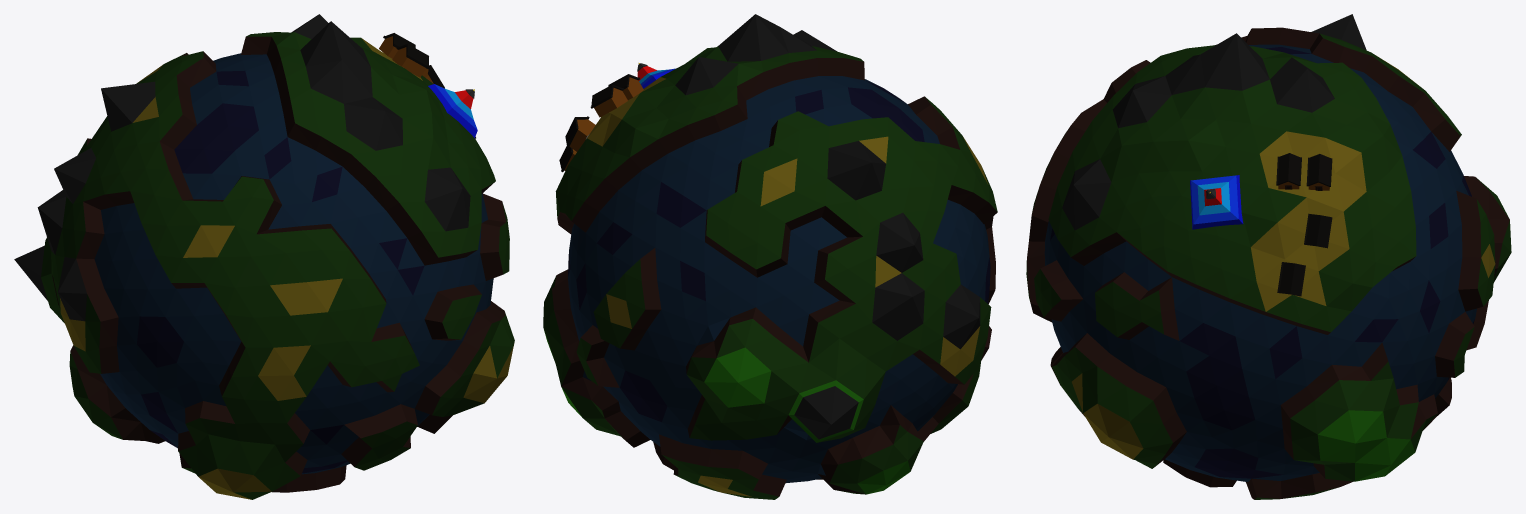
Rendered from Kerantia.obj.
The picture shows the model from 3 angles, left to right: view 1: azimuth 30°, elevation 25°; view 2: azimuth 150°, elevation 25°; view 3: azimuth 270°, elevation 25°; orthographic projection. The views are drawn at different scales.
Visible parts, largest first — view 1: Icosphere.001_Icosphere.013; view 2: Icosphere.001_Icosphere.013; view 3: Icosphere.001_Icosphere.013.
Boxes of the visible parts, bbox=[...] form: Icosphere.001_Icosphere.013: bbox=[14, 14, 514, 499]; Icosphere.001_Icosphere.013: bbox=[543, 14, 997, 499]; Icosphere.001_Icosphere.013: bbox=[1026, 14, 1511, 499].
Bounding box in the file's own units: 137 × 140 × 133.
